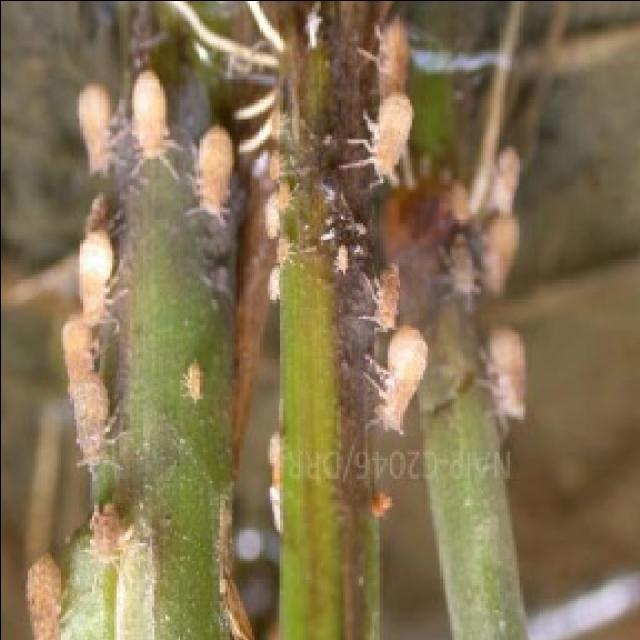brown plant hopper: (62, 302, 109, 464), (378, 327, 427, 431), (367, 91, 413, 178), (196, 124, 233, 220), (487, 329, 524, 420), (80, 229, 113, 324), (133, 71, 169, 158), (27, 553, 62, 640), (482, 216, 520, 296), (78, 84, 111, 173), (380, 18, 409, 98), (91, 504, 131, 562), (376, 264, 400, 329), (184, 362, 202, 402)
